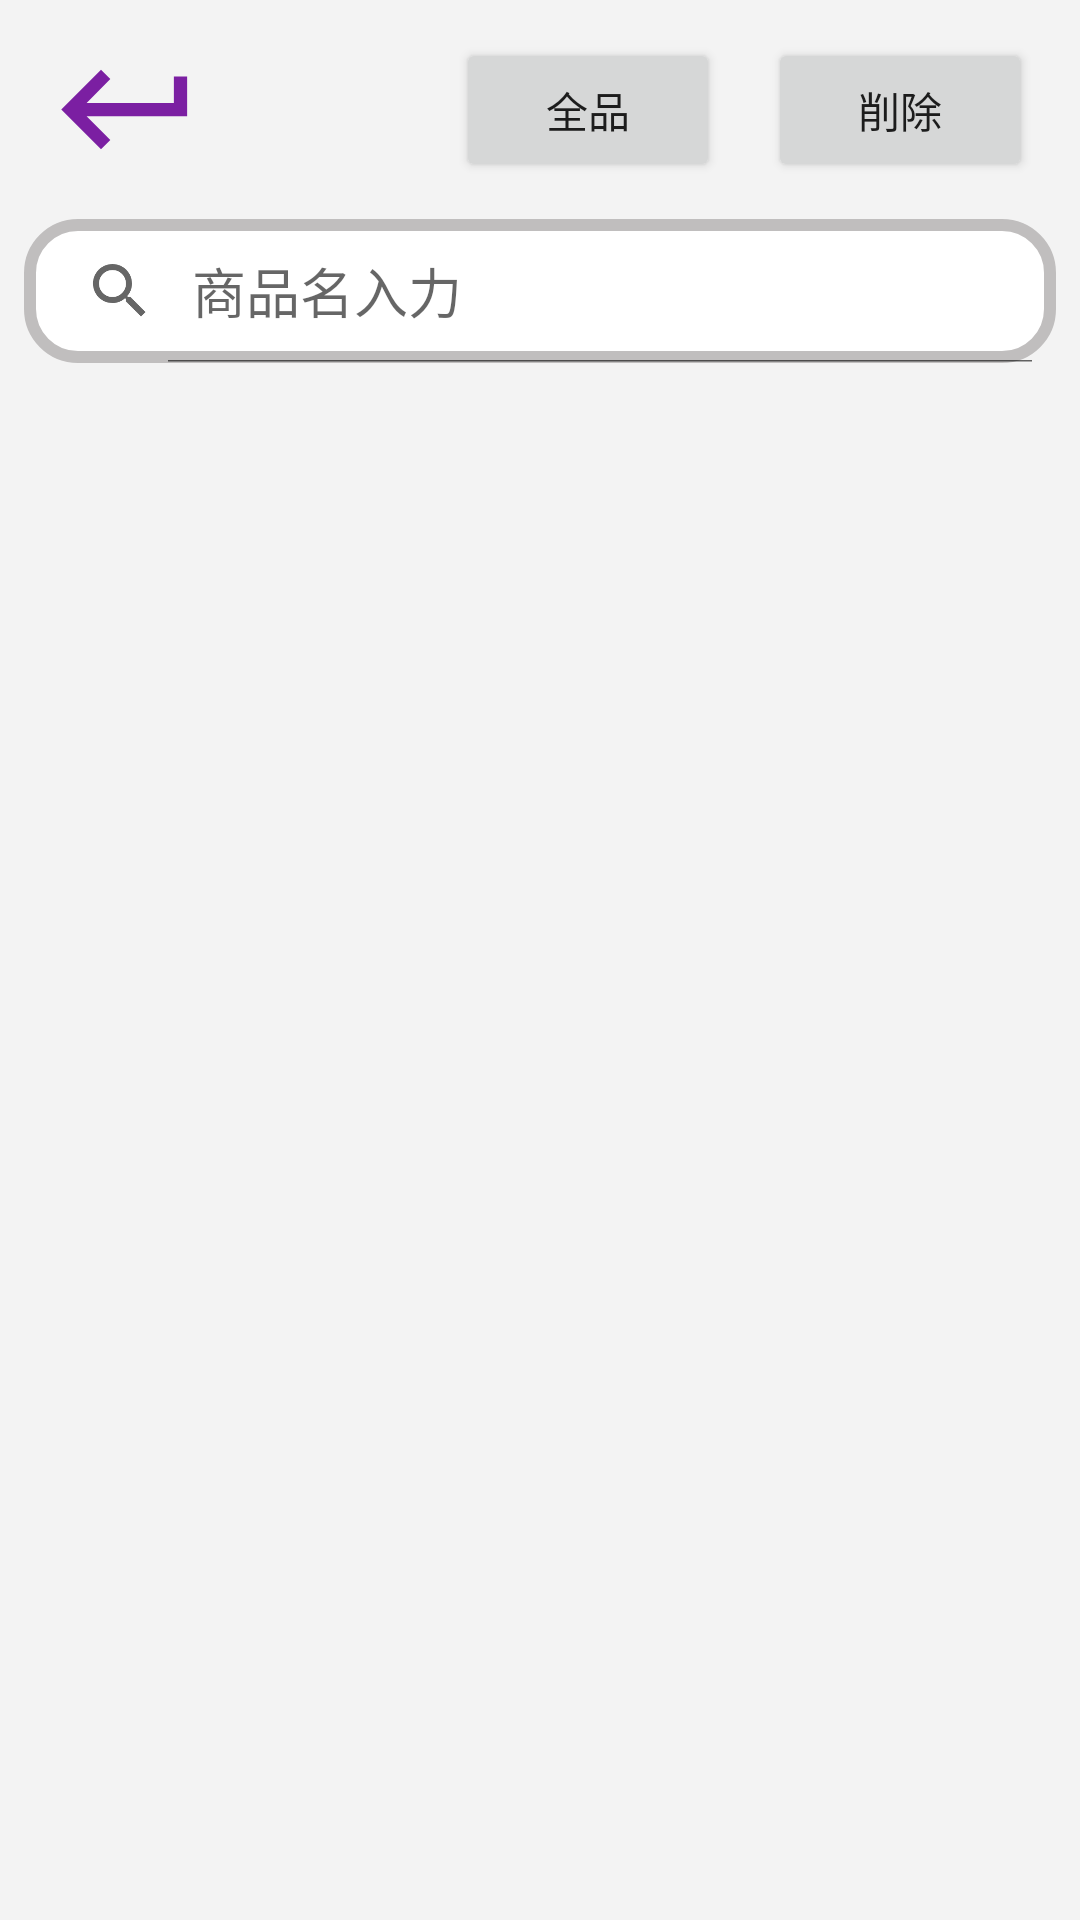

Where to tap for icons on this 1080px×1920px app screen, as (x=x, y=y):
Back: (x=124, y=109)
